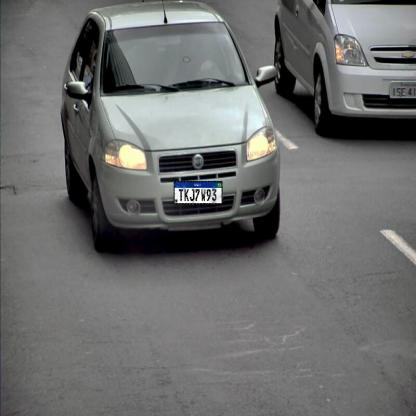PlacaM: (173, 181, 222, 204)
